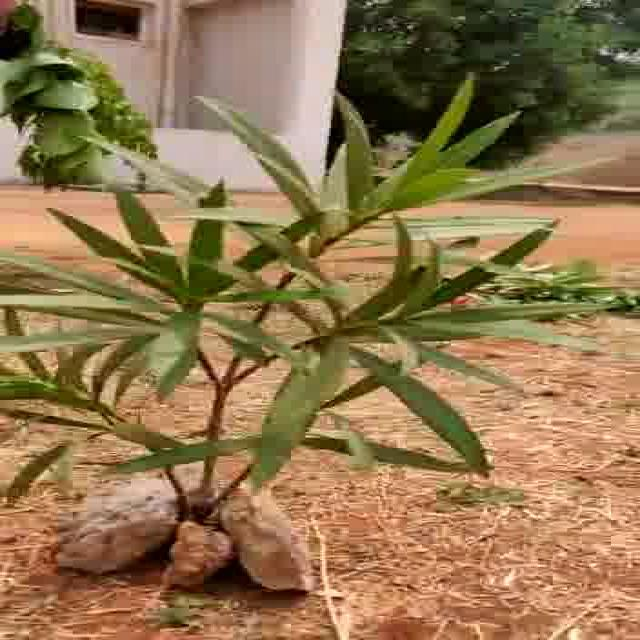Oleander: (22, 86, 569, 463)
